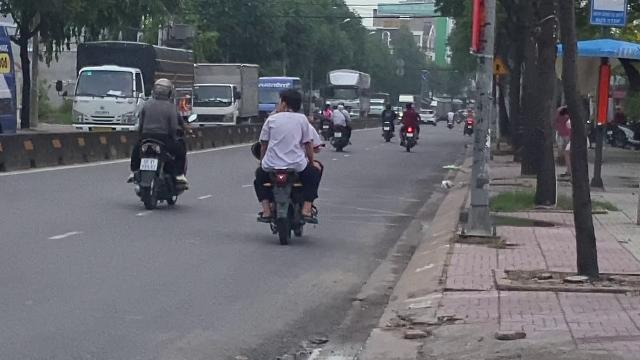helmet: (152, 78, 172, 98)
licenseplate: (140, 158, 158, 170)
motorcyclist: (250, 84, 326, 244), (124, 77, 190, 209)
nohelmet: (278, 88, 302, 112)
